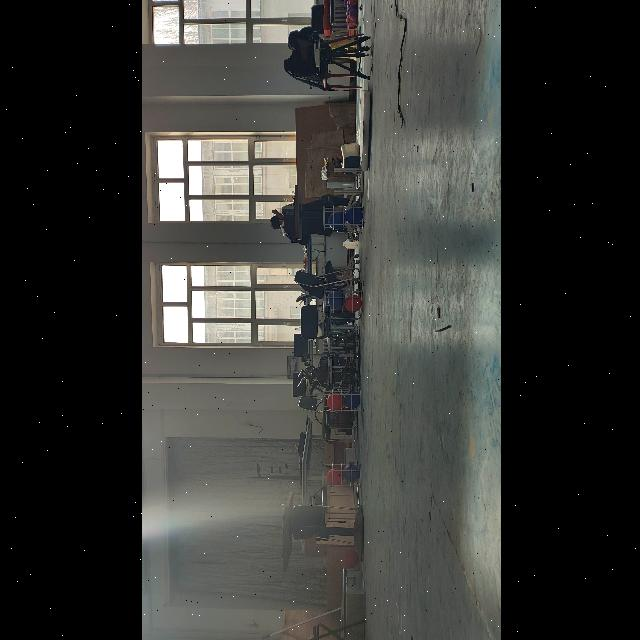B: (325, 292, 343, 312), (340, 463, 358, 482), (326, 212, 344, 230), (343, 390, 359, 410), (344, 206, 361, 224)
R: (326, 391, 344, 412), (324, 468, 344, 486), (343, 295, 359, 315)
S: (319, 202, 365, 234), (318, 385, 364, 415), (321, 288, 364, 318), (320, 459, 362, 489)
